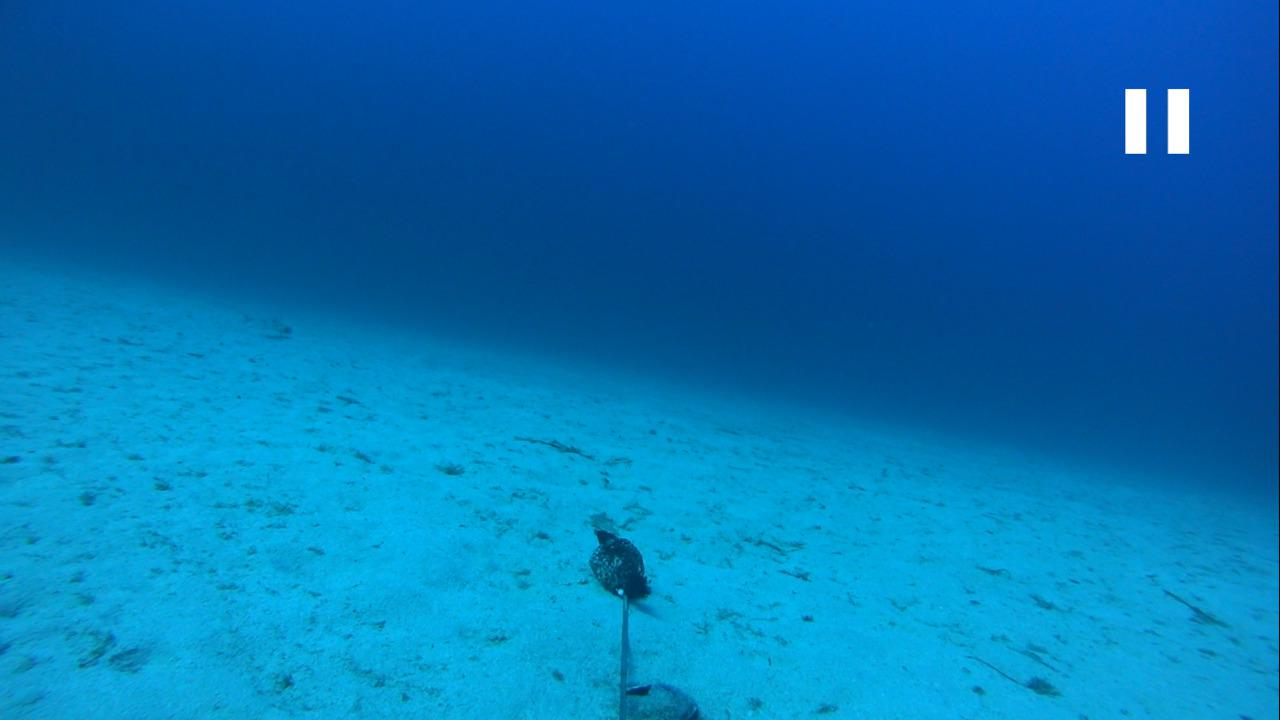dactylopterus: (242, 312, 303, 336)
